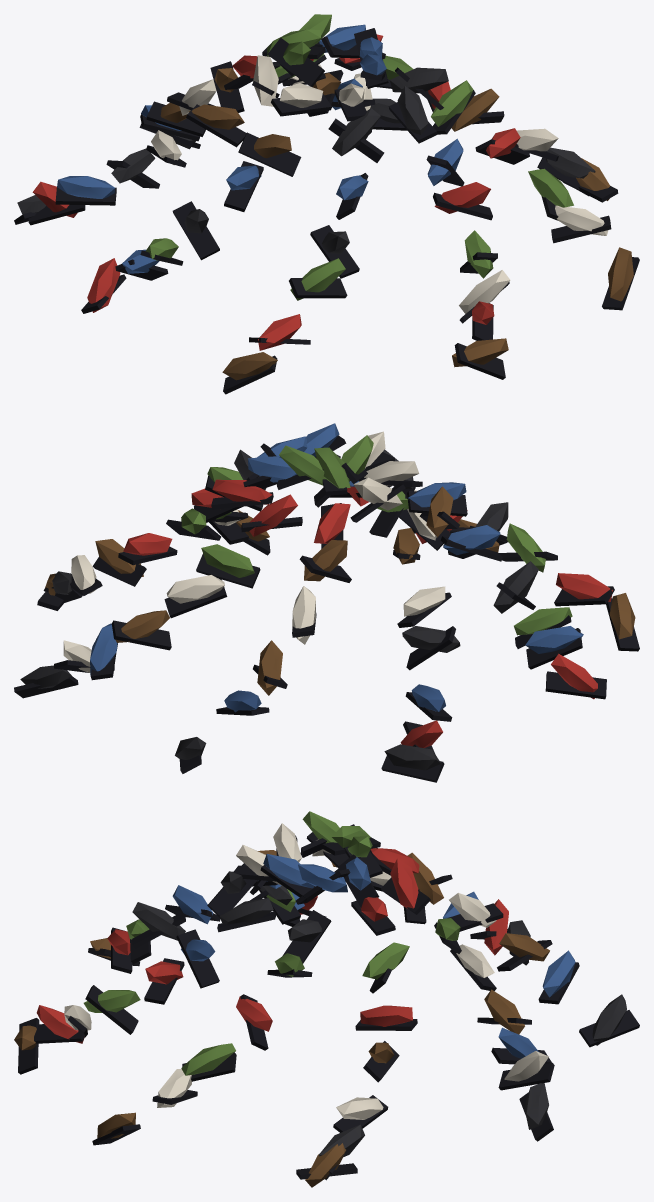
Rendered from shoe_pile.glb.
3 views of the same model, one above another, from view 1: azimuth 30°, elevation 25°; view 2: azimuth 150°, elevation 25°; view 3: azimuth 270°, elevation 25° (orthographic). The views are drawn at different scales.
Parts seen in each view (by area): view 1: shoe_pile; view 2: shoe_pile; view 3: shoe_pile.
Part boxes in pixels (left/top/right/bottom): shoe_pile: left=14, top=14, right=639, bottom=394; shoe_pile: left=14, top=423, right=639, bottom=782; shoe_pile: left=14, top=811, right=639, bottom=1187.
Bounding box in the file's own units: 5.22 × 2.25 × 5.35.
